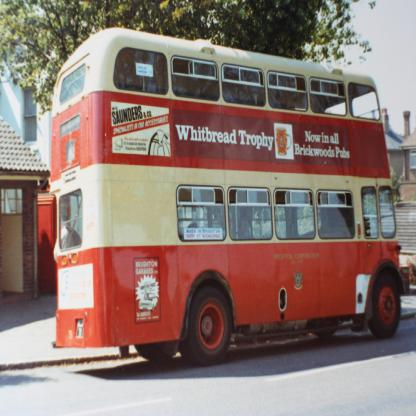Bus: (49, 27, 406, 366)
